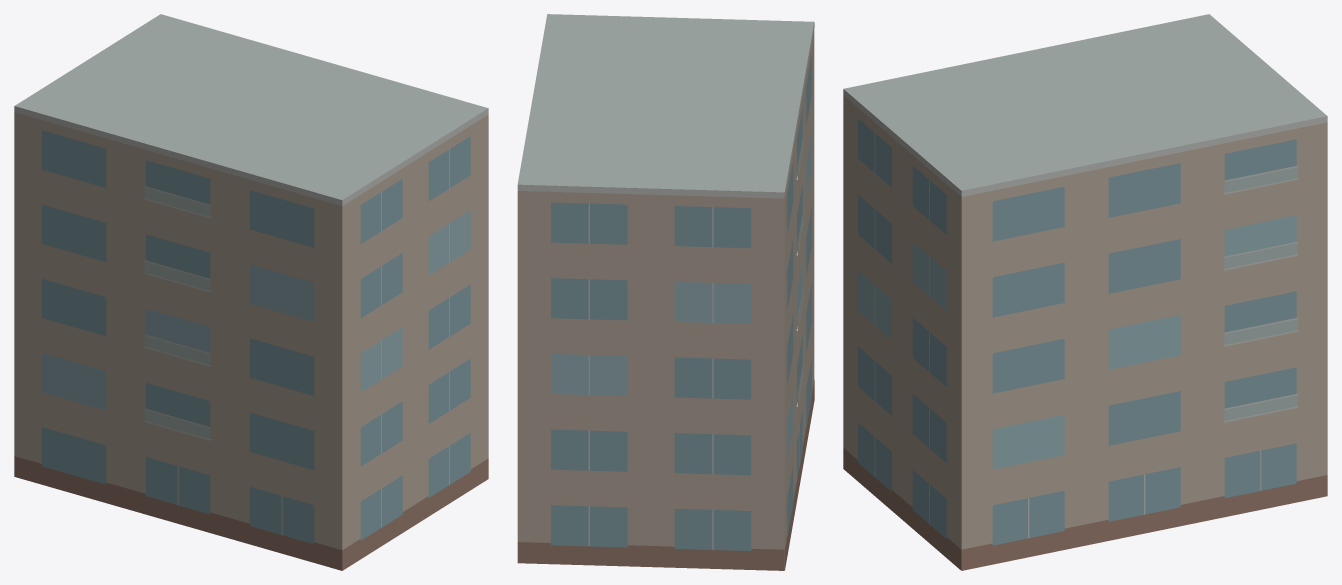
File: survey-upis-32696603.glb
3 renders of one model, left to right at view 1: azimuth 30°, elevation 25°; view 2: azimuth 150°, elevation 25°; view 3: azimuth 270°, elevation 25°, orthographic. The views are drawn at different scales.
Visible parts, largest first — view 1: survey-upis-32696603.tmp; view 2: survey-upis-32696603.tmp; view 3: survey-upis-32696603.tmp.
Part boxes in pixels (x1,y1,x2,y2): survey-upis-32696603.tmp: (14,14,488,570); survey-upis-32696603.tmp: (517,14,814,570); survey-upis-32696603.tmp: (843,14,1327,570).
Size of the model in its own units: 14.88 by 14.9 by 17.22.
